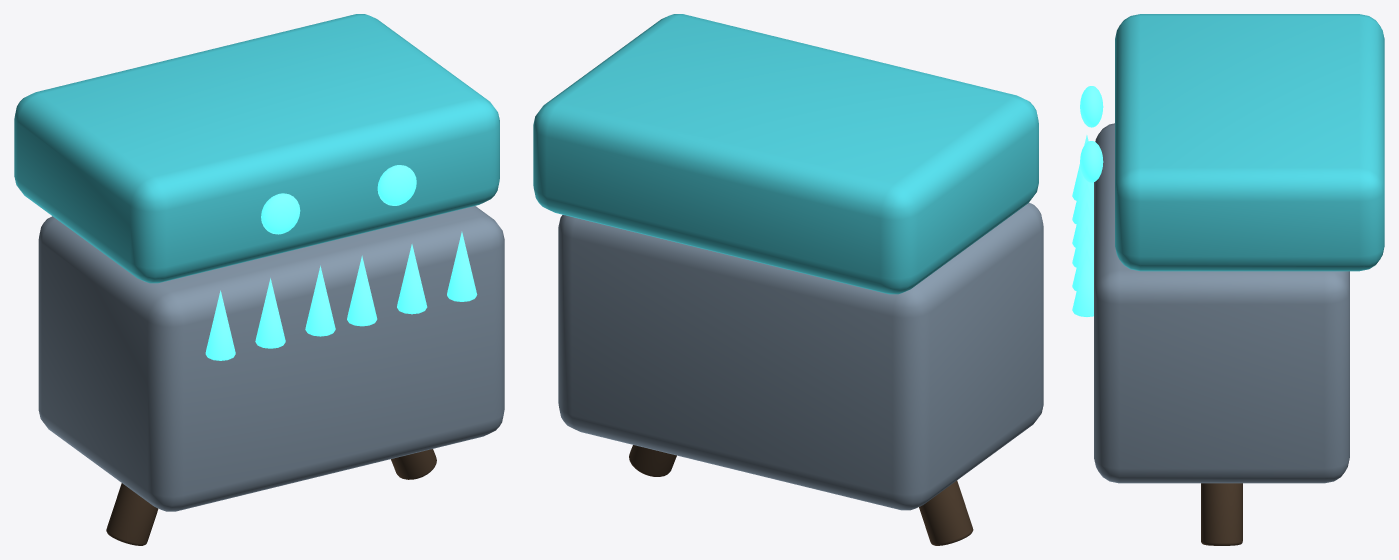
The model's file is mimic_v2.glb.
3 views of the same model, side by side, from view 1: azimuth 30°, elevation 25°; view 2: azimuth 150°, elevation 25°; view 3: azimuth 270°, elevation 25° (orthographic). The views are drawn at different scales.
Parts seen in each view (by area): view 1: COFFER_BODY_PRIMARY, HINGED_LID_ACCENT, COFFER_LEG_SECONDARY, EYE_EMISSIVE, EYE_EMISSIVE.001, COFFER_TOOTH_EMISSIVE, COFFER_TOOTH_EMISSIVE.001, COFFER_TOOTH_EMISSIVE.004, COFFER_TOOTH_EMISSIVE.003, COFFER_TOOTH_EMISSIVE.005, COFFER_TOOTH_EMISSIVE.002, COFFER_LEG_SECONDARY.001; view 2: COFFER_BODY_PRIMARY, HINGED_LID_ACCENT, COFFER_LEG_SECONDARY, COFFER_LEG_SECONDARY.001; view 3: HINGED_LID_ACCENT, COFFER_BODY_PRIMARY, COFFER_LEG_SECONDARY.001, COFFER_TOOTH_EMISSIVE.005, EYE_EMISSIVE, EYE_EMISSIVE.001, COFFER_TOOTH_EMISSIVE.004, COFFER_TOOTH_EMISSIVE.003, COFFER_TOOTH_EMISSIVE.002, COFFER_TOOTH_EMISSIVE.001.
Part boxes in pixels (x1=…): COFFER_BODY_PRIMARY: x1=38, y1=206, x2=504, y2=511; HINGED_LID_ACCENT: x1=14, y1=14, x2=499, y2=283; COFFER_LEG_SECONDARY: x1=106, y1=483, x2=158, y2=545; EYE_EMISSIVE: x1=261, y1=193, x2=300, y2=234; EYE_EMISSIVE.001: x1=377, y1=165, x2=416, y2=205; COFFER_TOOTH_EMISSIVE: x1=205, y1=290, x2=235, y2=360; COFFER_TOOTH_EMISSIVE.001: x1=255, y1=278, x2=285, y2=348; COFFER_TOOTH_EMISSIVE.004: x1=397, y1=244, x2=427, y2=314; COFFER_TOOTH_EMISSIVE.003: x1=347, y1=255, x2=377, y2=326; COFFER_TOOTH_EMISSIVE.005: x1=447, y1=231, x2=477, y2=301; COFFER_TOOTH_EMISSIVE.002: x1=305, y1=265, x2=335, y2=336; COFFER_LEG_SECONDARY.001: x1=391, y1=449, x2=436, y2=479; COFFER_BODY_PRIMARY: x1=558, y1=202, x2=1043, y2=510; HINGED_LID_ACCENT: x1=533, y1=14, x2=1038, y2=294; COFFER_LEG_SECONDARY: x1=919, y1=480, x2=973, y2=545; COFFER_LEG_SECONDARY.001: x1=629, y1=445, x2=676, y2=476; HINGED_LID_ACCENT: x1=1115, y1=14, x2=1384, y2=271; COFFER_BODY_PRIMARY: x1=1094, y1=123, x2=1349, y2=483; COFFER_LEG_SECONDARY.001: x1=1201, y1=483, x2=1242, y2=545; COFFER_TOOTH_EMISSIVE.005: x1=1072, y1=249, x2=1093, y2=316; EYE_EMISSIVE: x1=1080, y1=86, x2=1103, y2=127; EYE_EMISSIVE.001: x1=1080, y1=141, x2=1103, y2=182; COFFER_TOOTH_EMISSIVE.004: x1=1072, y1=225, x2=1093, y2=291; COFFER_TOOTH_EMISSIVE.003: x1=1072, y1=202, x2=1093, y2=267; COFFER_TOOTH_EMISSIVE.002: x1=1072, y1=182, x2=1093, y2=247; COFFER_TOOTH_EMISSIVE.001: x1=1072, y1=175, x2=1093, y2=224.
Bounding box in the file's own units: 1.76 × 1.85 × 1.34.
